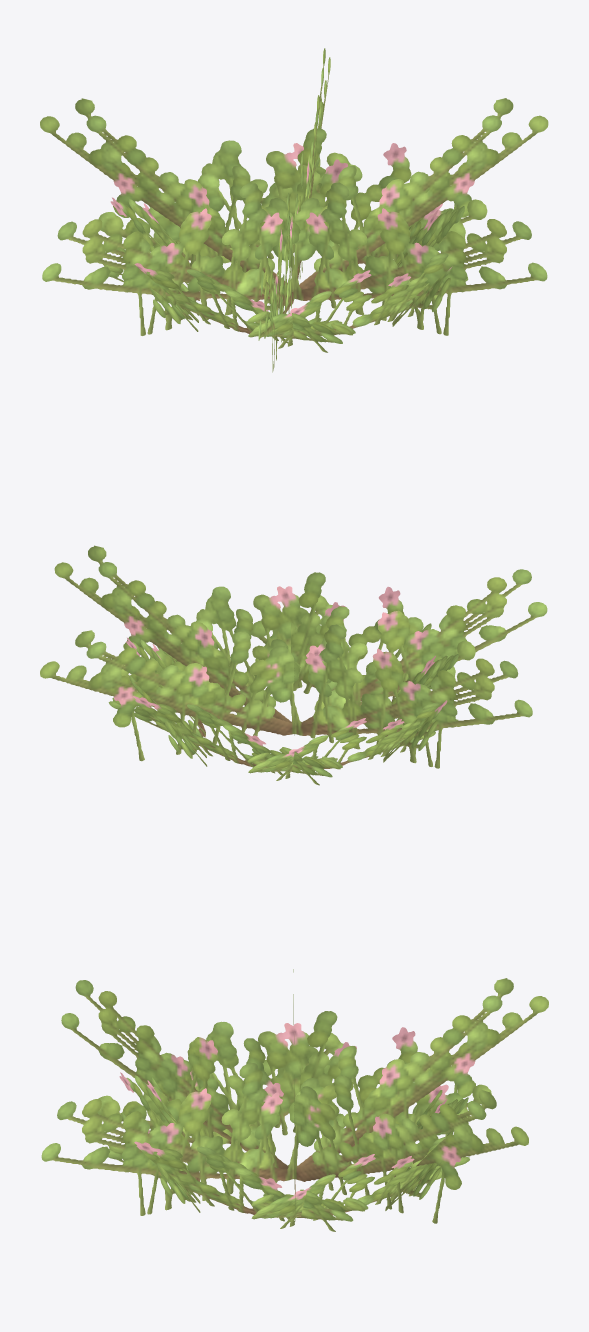
File: crop_cranberry_2.glb
3 views of the same model, one above another, from view 1: azimuth 30°, elevation 25°; view 2: azimuth 150°, elevation 25°; view 3: azimuth 270°, elevation 25° (orthographic). The views are drawn at different scales.
Visible parts, largest first — view 1: crop_cranberry_2; view 2: crop_cranberry_2; view 3: crop_cranberry_2.
Part boxes in pixels (x1=…): crop_cranberry_2: x1=40, y1=48, x2=548, y2=372; crop_cranberry_2: x1=40, y1=545, x2=547, y2=785; crop_cranberry_2: x1=41, y1=969, x2=548, y2=1231.
Bounding box in the file's own units: 0.7 × 0.18 × 0.6059.
1 material, 1 textured.
